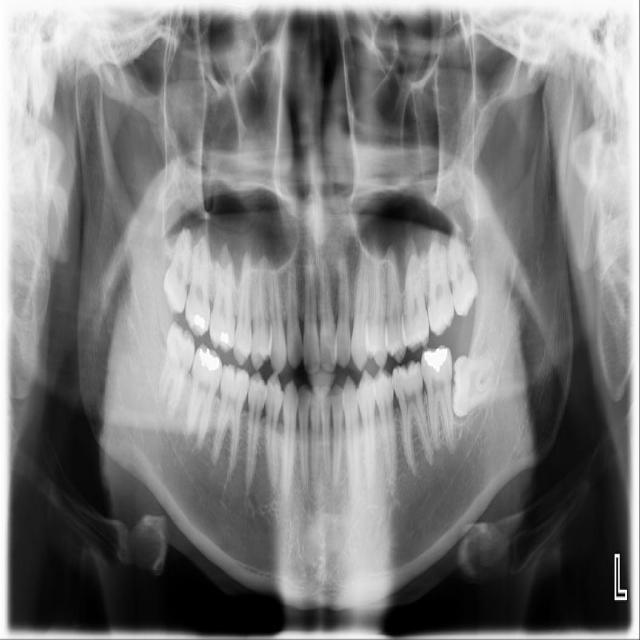3M ESPE Implant: (160, 225, 194, 316)
52: (418, 339, 452, 374), (198, 345, 222, 374), (194, 313, 205, 329), (220, 332, 229, 345)
73: (618, 607, 627, 615)
BioHorizons Implant: (421, 236, 456, 339)
BioLife Implant: (445, 223, 481, 319)
Biomet 3i Implant: (451, 354, 496, 419)
Blue Sky Bio Implant: (419, 344, 459, 453)
Caries: (182, 235, 211, 338)
Implant: (184, 342, 225, 450)
Keystone Dental Implant: (154, 318, 200, 416)
